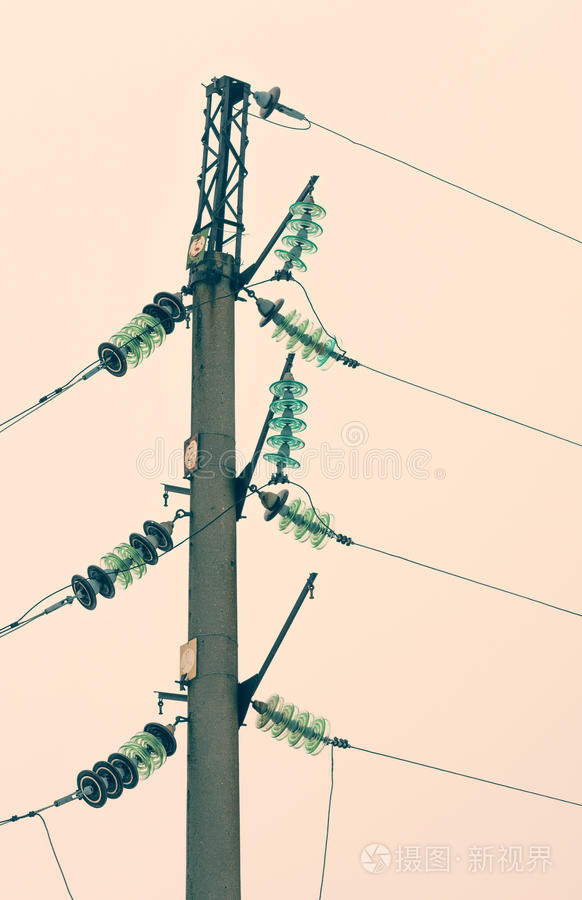insulator: (70, 517, 174, 603), (77, 716, 174, 803), (96, 301, 174, 374), (262, 296, 334, 368), (261, 378, 309, 471), (265, 488, 335, 551), (257, 696, 333, 754), (272, 200, 327, 274)
